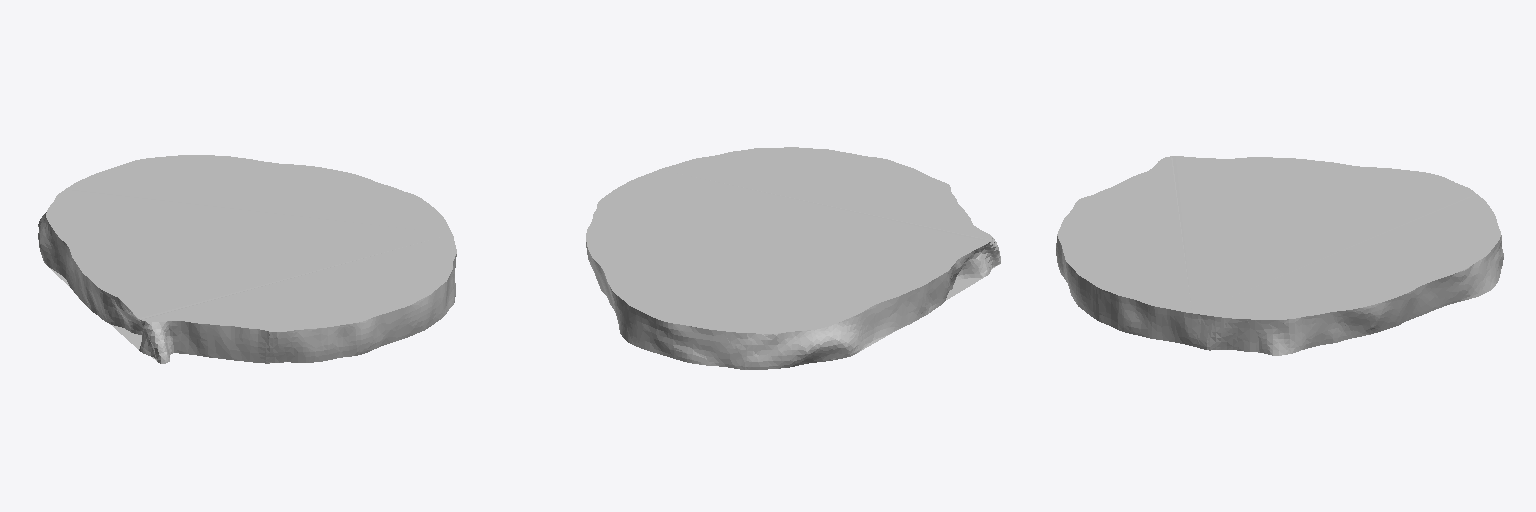
3 views of the same model, side by side, from view 1: azimuth 30°, elevation 25°; view 2: azimuth 150°, elevation 25°; view 3: azimuth 270°, elevation 25° (orthographic).
Parts seen in each view (by area): view 1: low.005_Fotogrametria_MarioGomes_V01_Model_2.006; view 2: low.005_Fotogrametria_MarioGomes_V01_Model_2.006; view 3: low.005_Fotogrametria_MarioGomes_V01_Model_2.006.
Boxes of the visible parts, box(x1,y1,x2,y2) form: low.005_Fotogrametria_MarioGomes_V01_Model_2.006: box(38, 155, 456, 363); low.005_Fotogrametria_MarioGomes_V01_Model_2.006: box(586, 147, 1000, 369); low.005_Fotogrametria_MarioGomes_V01_Model_2.006: box(1056, 156, 1503, 355).
Bounding box in the file's own units: 2.1 × 0.2012 × 2.39.